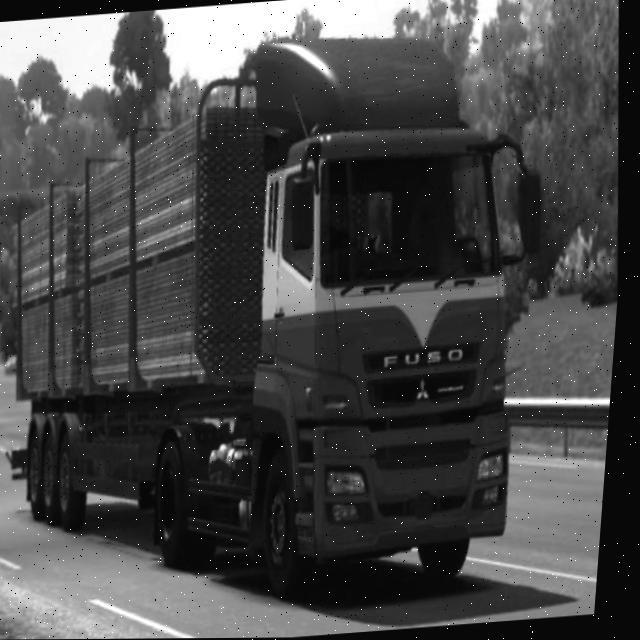truck: (0, 19, 574, 610)
